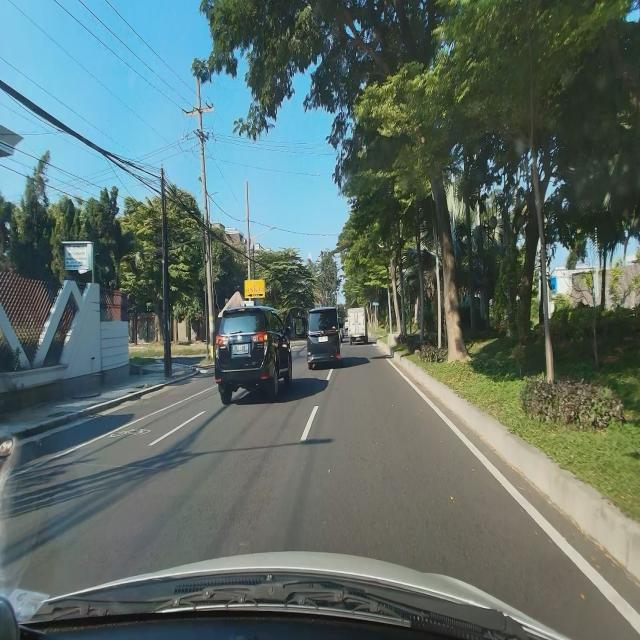car: (212, 303, 294, 409), (306, 303, 341, 371)
license-plate: (233, 343, 249, 355), (318, 335, 328, 343)
truck: (347, 306, 368, 346)
